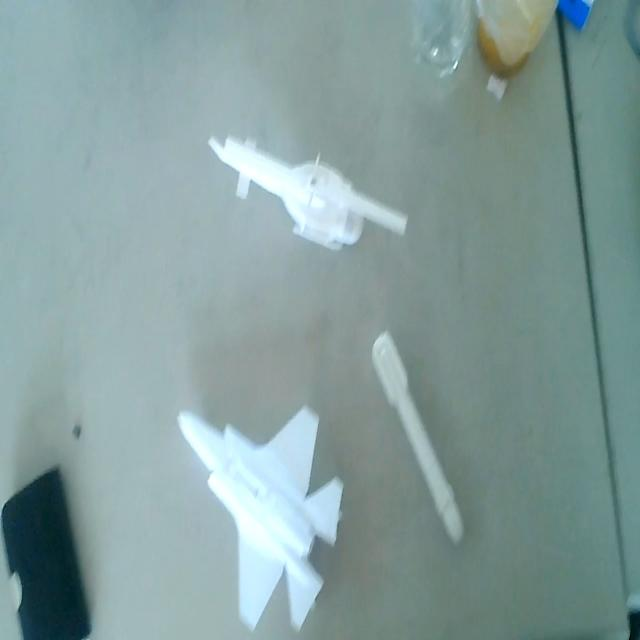Helicopter: (206, 122, 407, 268)
Jet: (172, 391, 346, 637)
Rocket: (370, 326, 466, 544)
